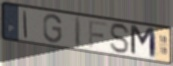F: (88, 19, 108, 50)
G: (42, 13, 63, 44)
I: (74, 17, 83, 49), (23, 9, 29, 40)
M: (129, 23, 158, 61)
S: (109, 22, 132, 55)
